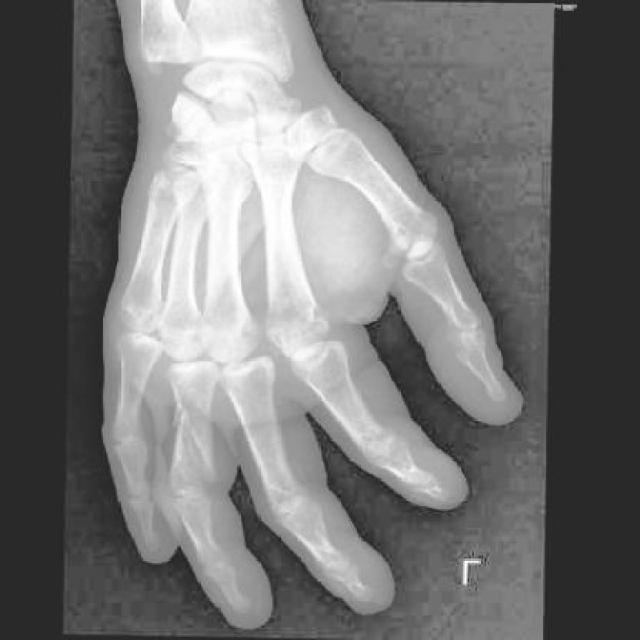Fracture: (165, 371, 222, 491)
